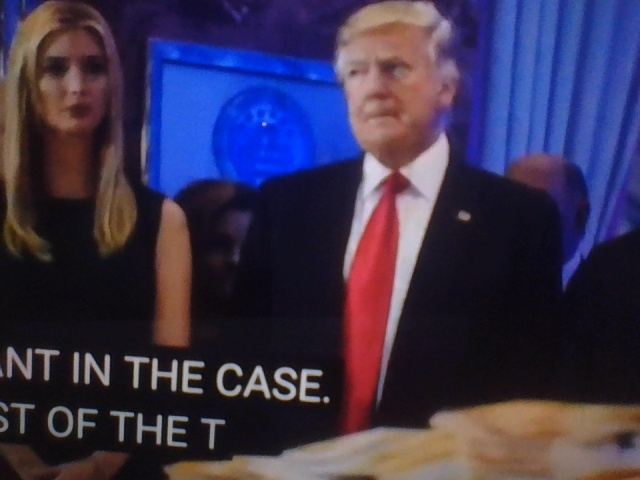fake: (330, 0, 463, 188), (18, 0, 133, 163)
